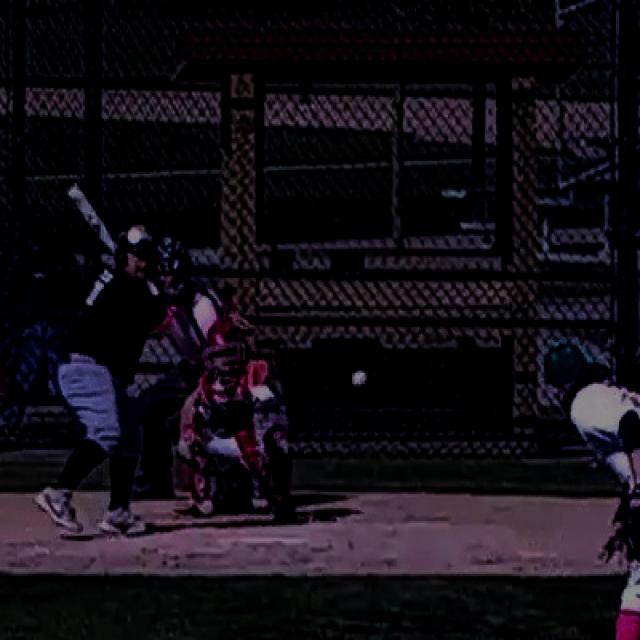baseball: (352, 370, 368, 387)
